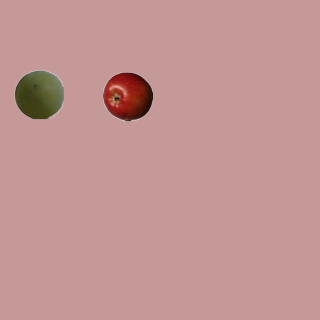Apple Braeburn: (102, 71, 152, 121)
Grape White 4: (13, 69, 63, 119)
